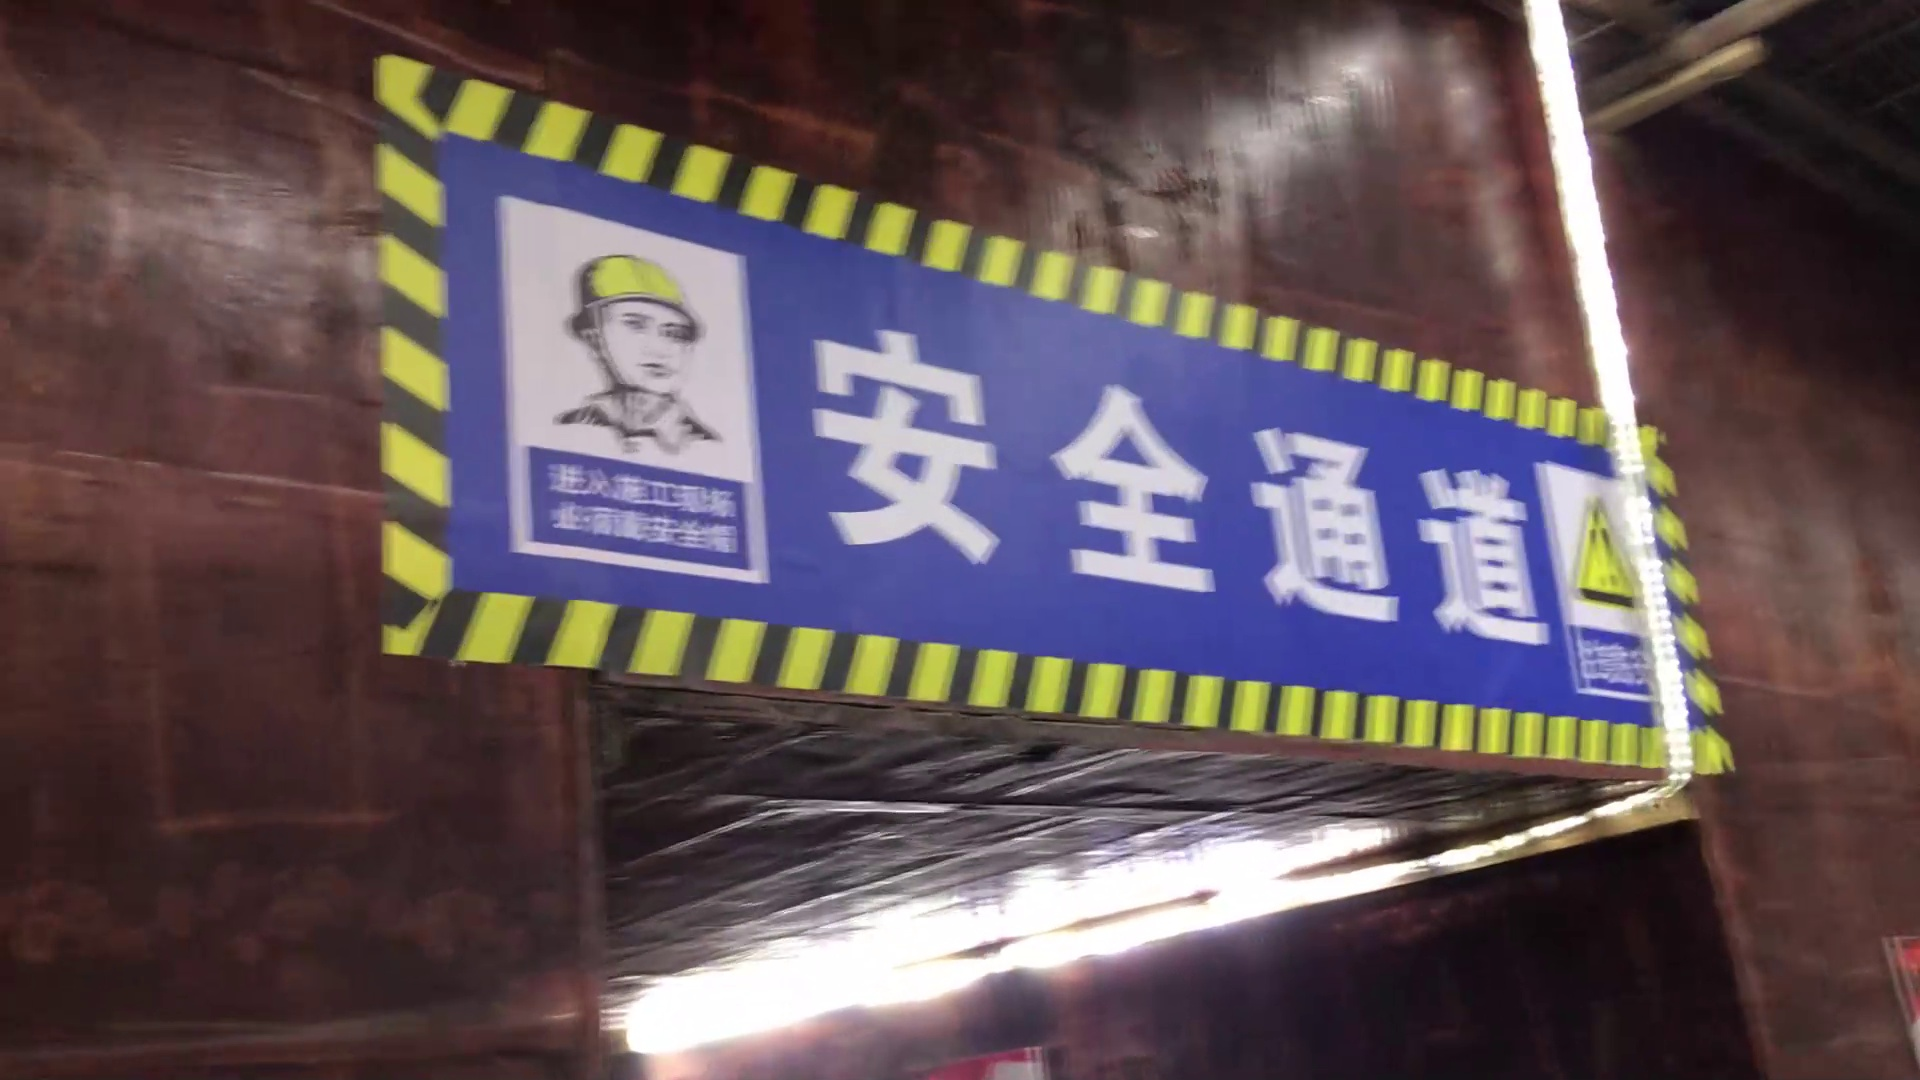slogan: (382, 170, 1664, 716)
